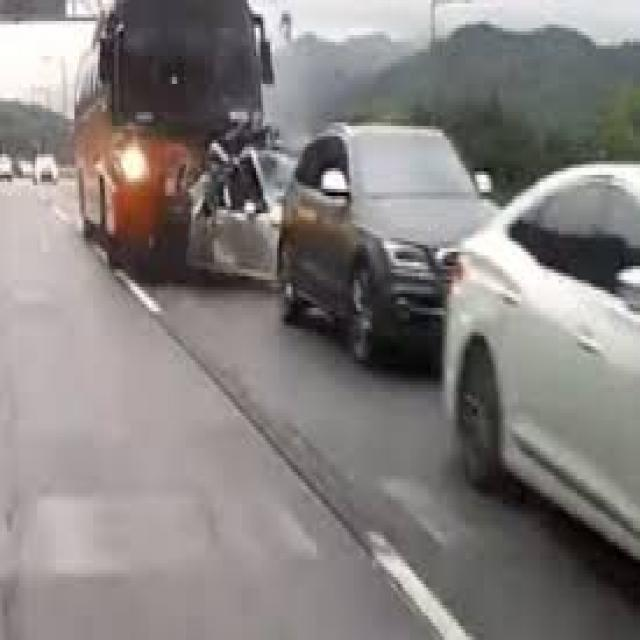accident: (93, 7, 279, 290)
